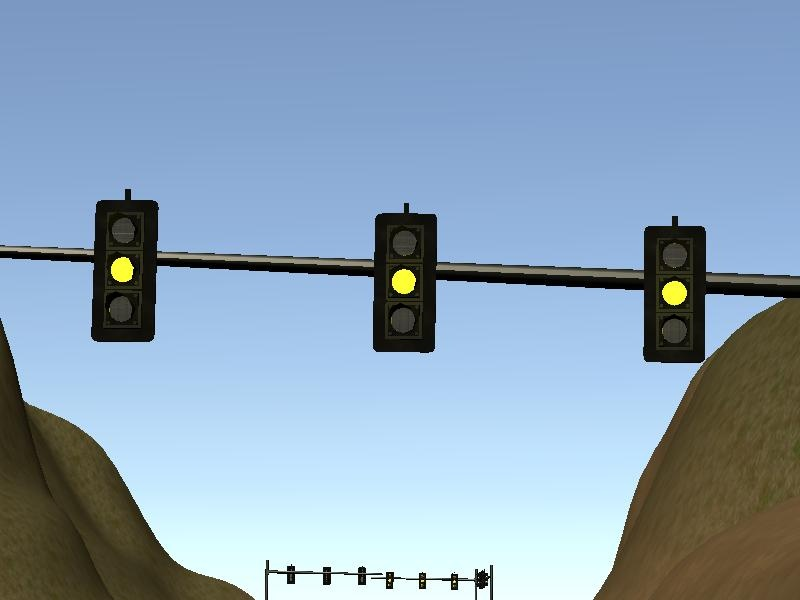YELLOW: (87, 190, 159, 344), (637, 214, 709, 368), (370, 200, 439, 355)
